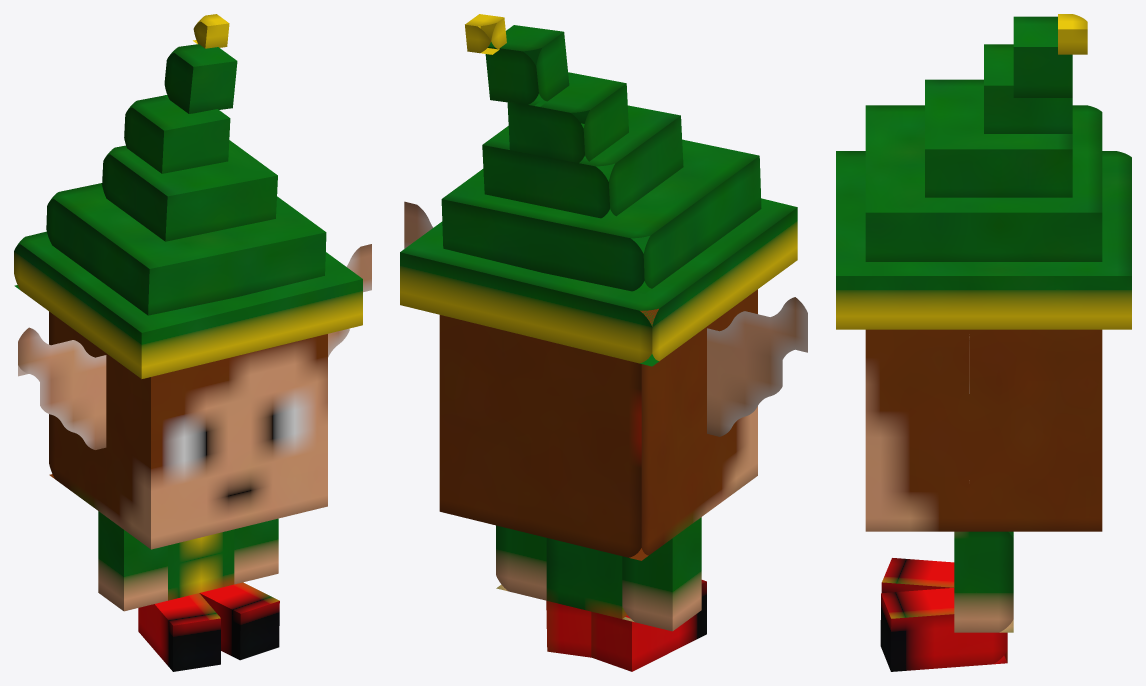
Rendered from elf.obj.
3 views of the same model, side by side, from view 1: azimuth 30°, elevation 25°; view 2: azimuth 150°, elevation 25°; view 3: azimuth 270°, elevation 25° (orthographic). The views are drawn at different scales.
Visible parts, largest first — view 1: head, hat2, hat3, hat4, ear2, hat5, leg2, arm2, leg1, hat6, body, arm1 (+2 smaller); view 2: head, hat2, hat3, hat4, ear2, hat5, arm2, hat6, body, leg2, arm1, leg1 (+2 smaller); view 3: head, hat2, hat3, hat4, leg1, arm1, hat5, hat6, leg2, hat1.
Boxes of the visible parts, x1,y1,x2,y2 form: head: (49, 311, 327, 549); hat2: (14, 231, 362, 378); hat3: (46, 183, 326, 315); hat4: (102, 140, 277, 241); ear2: (18, 327, 106, 449); hat5: (124, 95, 230, 173); leg2: (138, 593, 220, 671); arm2: (98, 511, 167, 611); leg1: (199, 582, 279, 660); hat6: (164, 44, 237, 113); body: (168, 529, 234, 600); arm1: (234, 518, 278, 584); head: (439, 289, 757, 560); hat2: (400, 198, 797, 366); hat3: (441, 139, 761, 293); hat4: (482, 105, 683, 218); ear2: (707, 297, 807, 436); hat5: (507, 72, 628, 162); arm2: (622, 517, 701, 631); hat6: (485, 25, 569, 106); body: (546, 538, 627, 618); leg2: (591, 580, 706, 671); arm1: (496, 525, 546, 600); leg1: (546, 600, 591, 657); head: (865, 329, 1102, 531); hat2: (836, 151, 1131, 329); hat3: (865, 105, 1102, 261); hat4: (925, 79, 1072, 197); leg1: (880, 588, 1007, 671); arm1: (954, 531, 1013, 632); hat5: (984, 44, 1072, 133); hat6: (1013, 16, 1072, 97); leg2: (881, 558, 954, 592); hat1: (1058, 14, 1087, 54).
Size of the model in its own units: 0.5 by 0.7673 by 0.3125.
